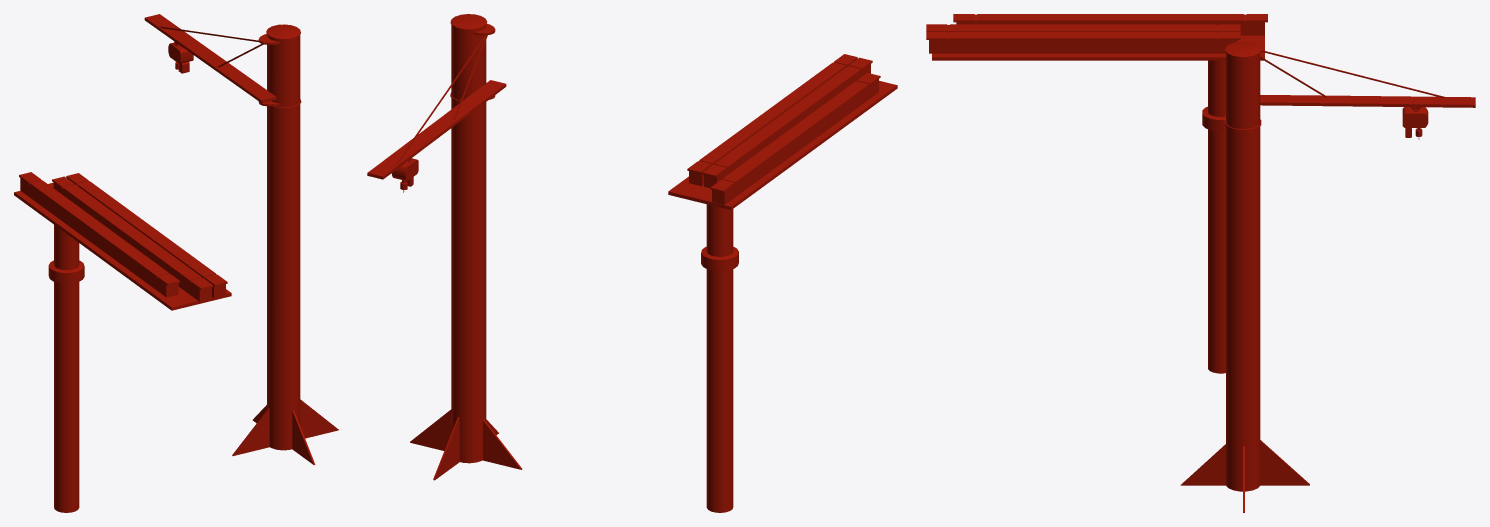
Rendered from CRANE_centre_longer.fbx.
The picture shows the model from 3 angles, left to right: view 1: azimuth 30°, elevation 25°; view 2: azimuth 150°, elevation 25°; view 3: azimuth 270°, elevation 25°; orthographic projection. The views are drawn at different scales.
Visible parts, largest first — view 1: Cylinder.035, Cube.043; view 2: Cylinder.035, Cube.043; view 3: Cylinder.035, Cube.043.
Part boxes in pixels (x1,y1,x2,y2): Cylinder.035: [14, 24, 338, 512]; Cube.043: [144, 14, 276, 103]; Cylinder.035: [410, 14, 897, 512]; Cube.043: [367, 35, 506, 192]; Cylinder.035: [926, 14, 1309, 512]; Cube.043: [1260, 50, 1475, 139].
Size of the model in its own units: 4227 by 5306 by 6059.
